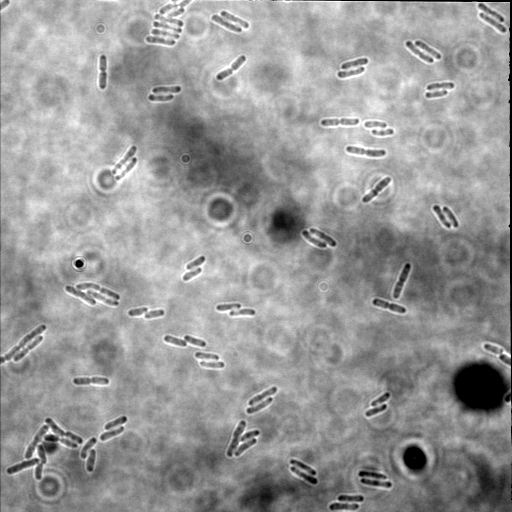Dividing: (3, 323, 47, 362), (75, 280, 121, 302), (390, 261, 415, 301), (110, 143, 139, 176), (360, 176, 392, 205), (12, 333, 44, 362), (215, 53, 248, 81), (225, 418, 248, 458), (482, 341, 511, 368), (343, 142, 388, 159), (404, 40, 435, 64), (64, 284, 97, 306), (371, 295, 407, 315), (288, 465, 319, 486), (247, 385, 278, 406), (308, 227, 338, 248), (318, 116, 360, 129), (70, 376, 111, 388), (97, 53, 110, 90), (426, 80, 457, 92)
Microcolony: (6, 416, 84, 481), (144, 1, 194, 48)
Rod: (209, 13, 244, 36), (476, 10, 508, 35), (218, 9, 250, 31), (86, 289, 121, 308), (476, 1, 506, 23), (414, 39, 443, 61), (288, 457, 318, 477), (300, 229, 328, 250), (115, 155, 138, 180), (245, 395, 273, 415), (431, 205, 452, 229), (99, 424, 125, 443), (338, 56, 370, 71), (336, 64, 366, 80), (359, 476, 393, 490), (442, 205, 461, 229), (234, 437, 257, 456), (80, 435, 98, 459), (181, 264, 203, 283), (104, 414, 128, 431), (364, 402, 389, 418), (185, 253, 207, 271), (357, 469, 388, 481), (85, 447, 99, 473), (151, 84, 183, 95), (214, 301, 243, 313), (197, 358, 226, 370), (163, 334, 187, 348), (370, 391, 391, 407), (227, 307, 257, 318), (184, 334, 207, 348), (328, 502, 359, 512), (239, 428, 261, 442), (370, 126, 395, 138), (147, 92, 174, 103), (127, 305, 149, 318), (337, 493, 365, 503), (195, 351, 220, 362), (144, 308, 166, 320), (423, 89, 449, 99), (363, 119, 388, 129)
